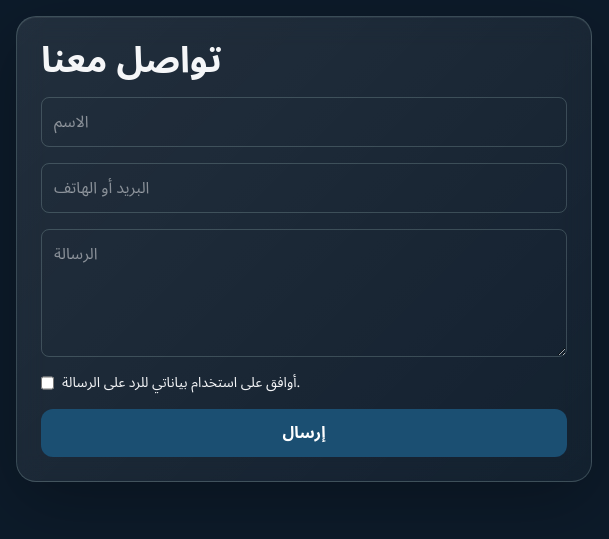
Test: T7-A6.3 ar UI contracts › contact success preserves payload, raw error precedence and localized placeholders
The image size is (609, 539).
Type "RAW name اسم" into the field with placeholder "الاسم" at (304, 122), box [41,97,567,147]
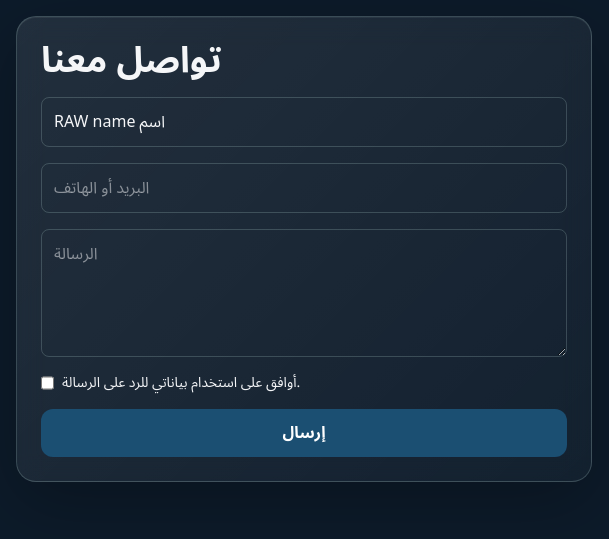
Type "raw@example.test" into the field with placeholder "البريد أو الهاتف" at (304, 188), box [41,163,567,213]
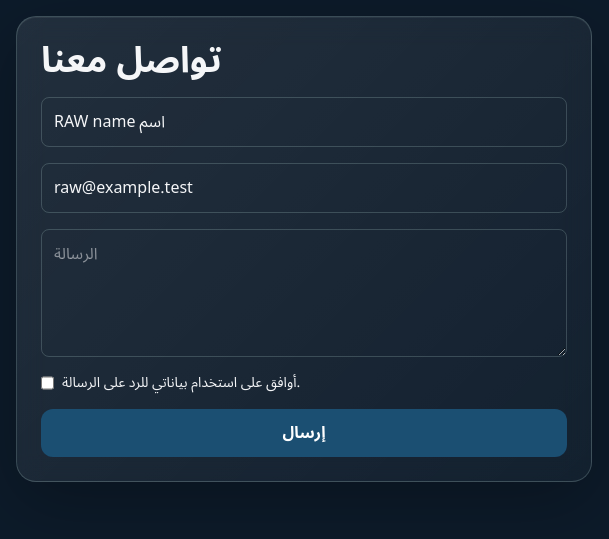
Type "RAW message رسالة" into the text box with placeholder "الرسالة" at (304, 293), box [41,229,567,357]
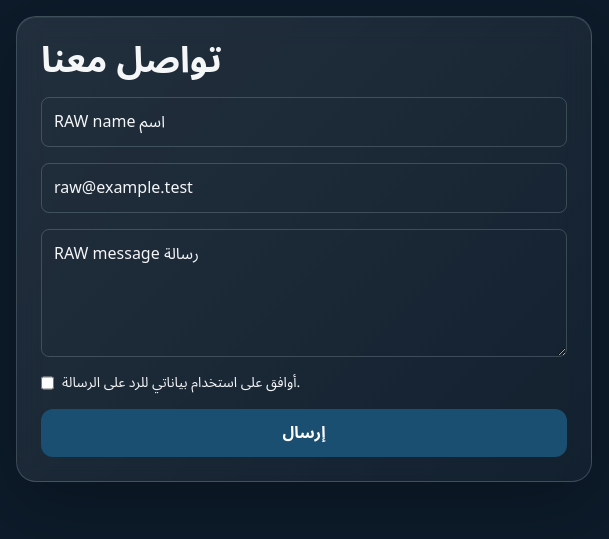
Click the checkbox at (48, 383), box [41,373,54,393]
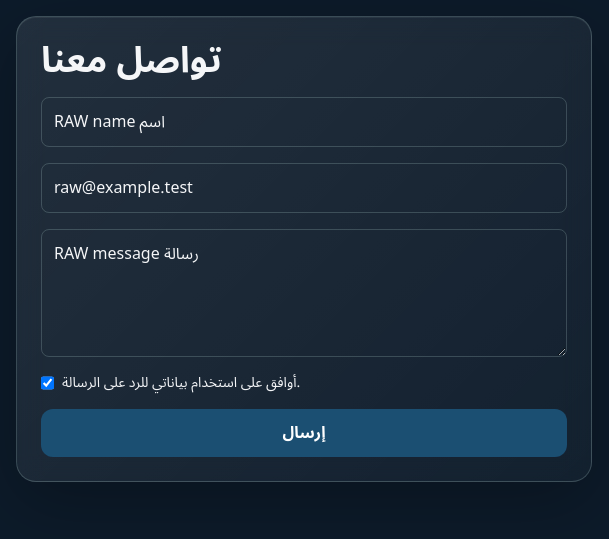
Click the button "إرسال" at (304, 433), box [41,409,567,457]
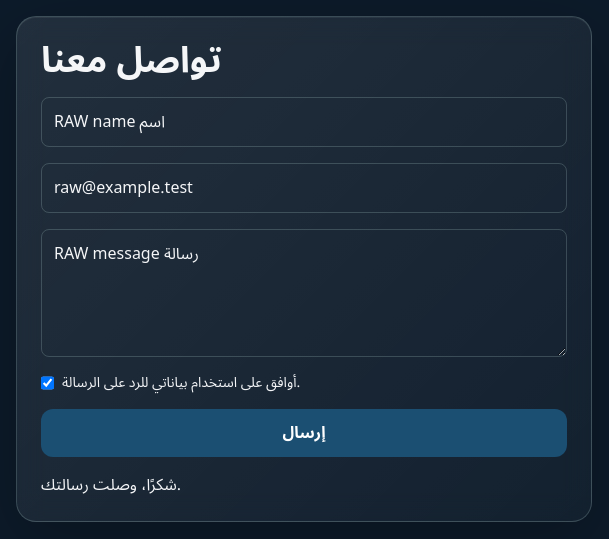
Now the message reads "شكرًا، وصلت رسالتك.", box [41,468,181,502]
